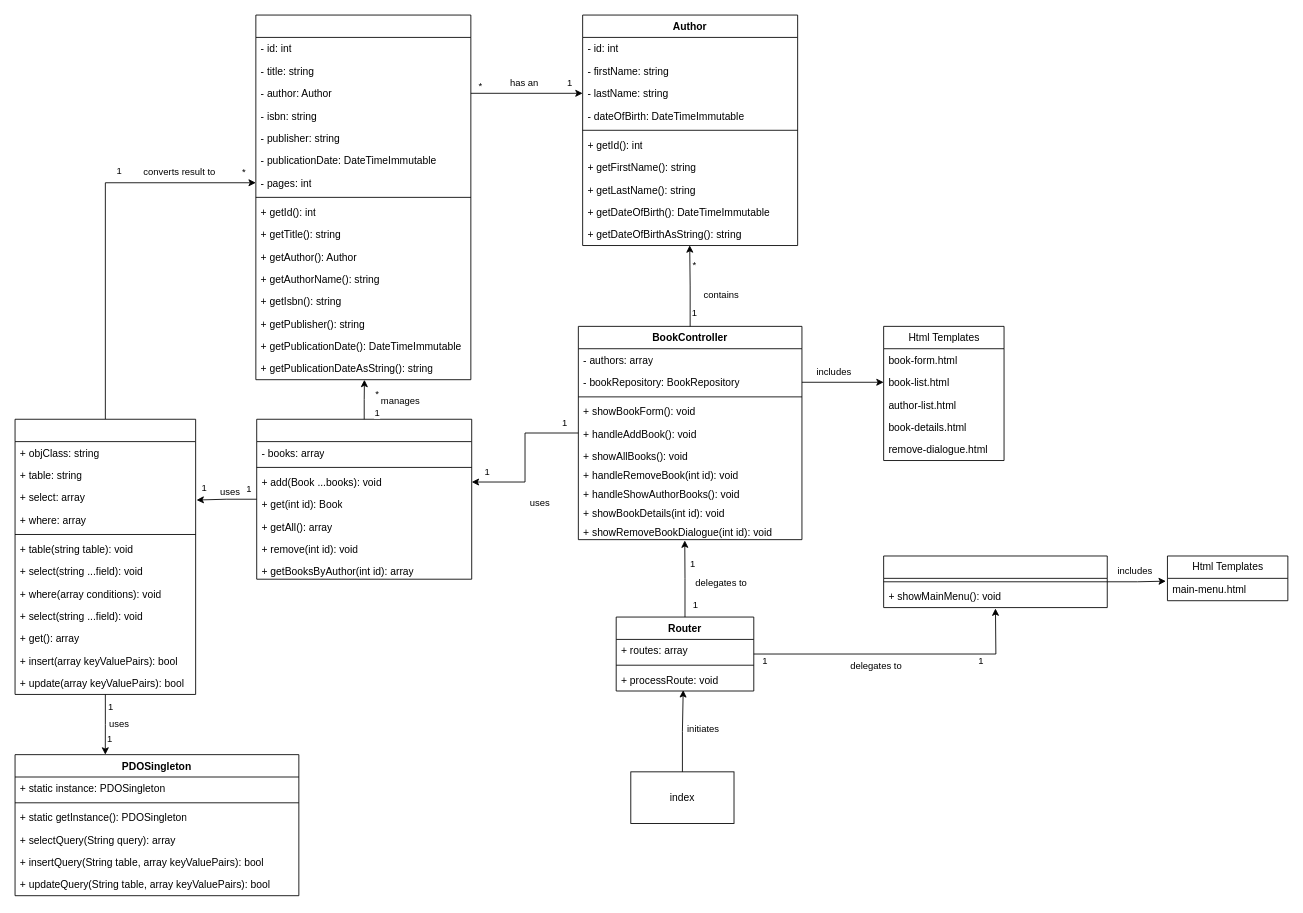
Image size: 1303x913. Some labels were removed from this diagram. Here are the shapes that lost their labels. From the top down, the box of each, then its label:
(255, 14, 471, 380): Book
(256, 418, 472, 579): BookRepository
(14, 418, 196, 694): QueryBuilder
(883, 555, 1107, 608): MainController
